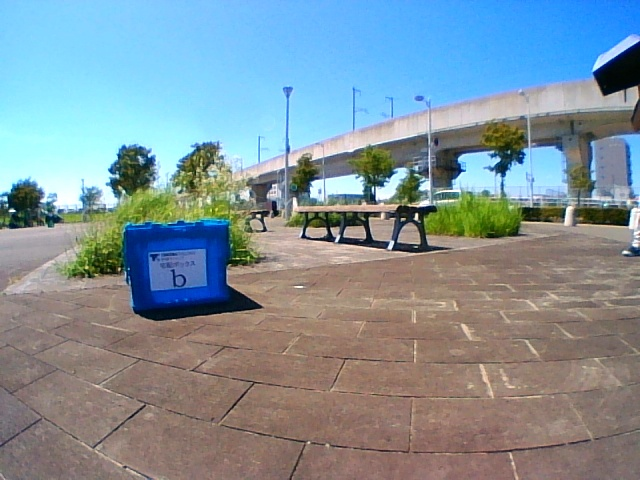blue_box: (130, 222, 226, 300)
tag_b: (151, 253, 205, 287)
